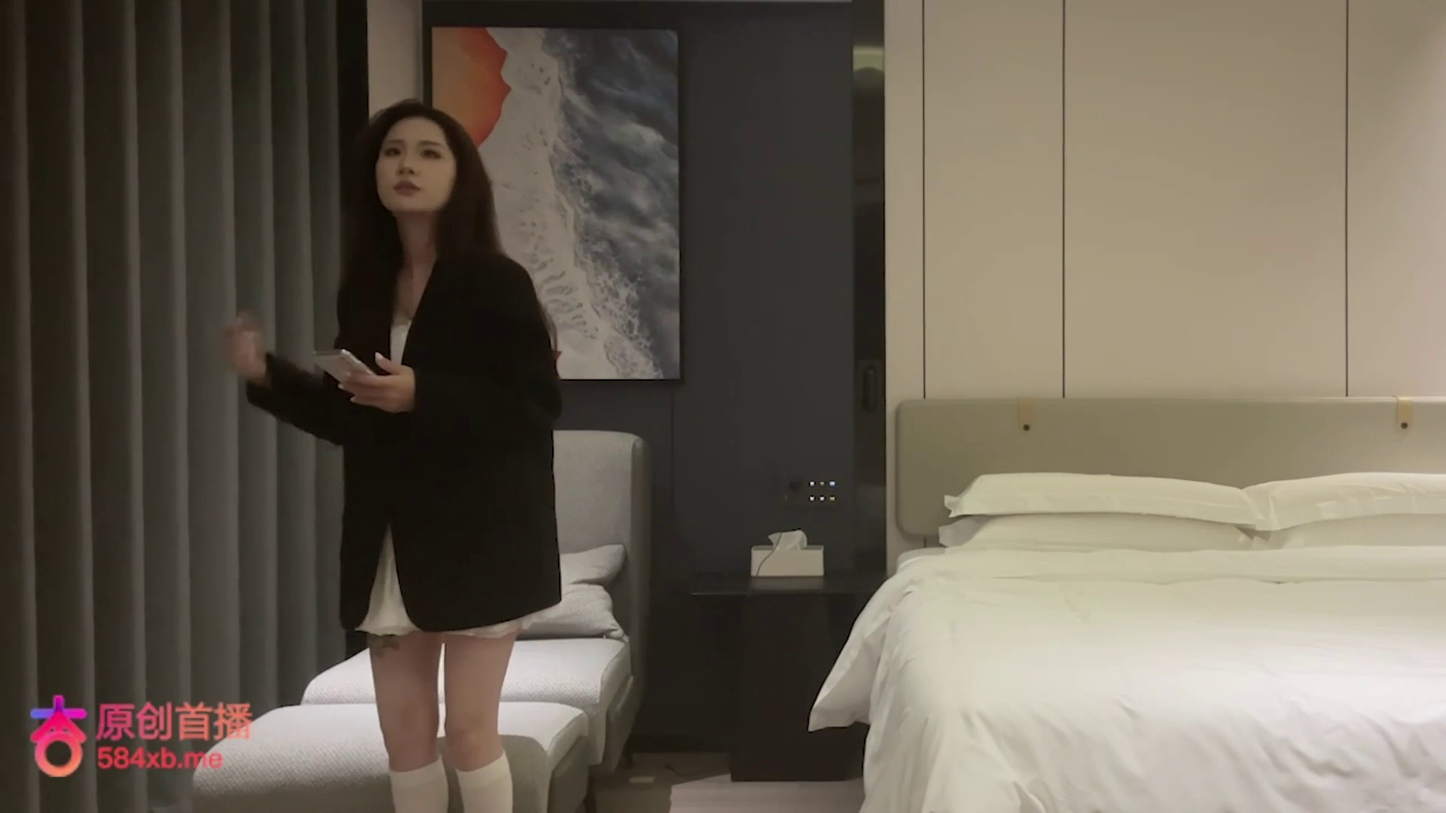person: (222, 97, 564, 808)
